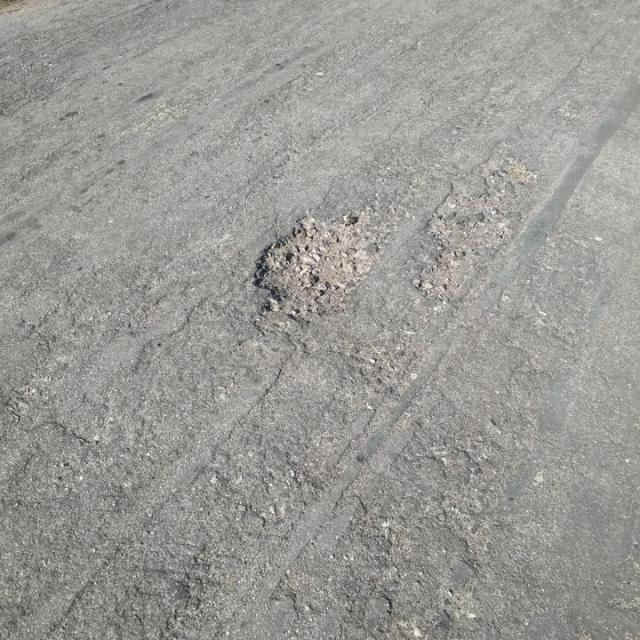Pothole: (411, 159, 544, 306), (250, 207, 385, 325)
